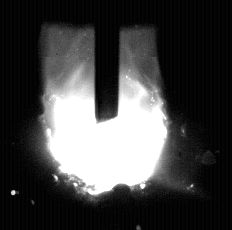arame: (95, 0, 120, 124)
poca: (46, 0, 168, 230)
